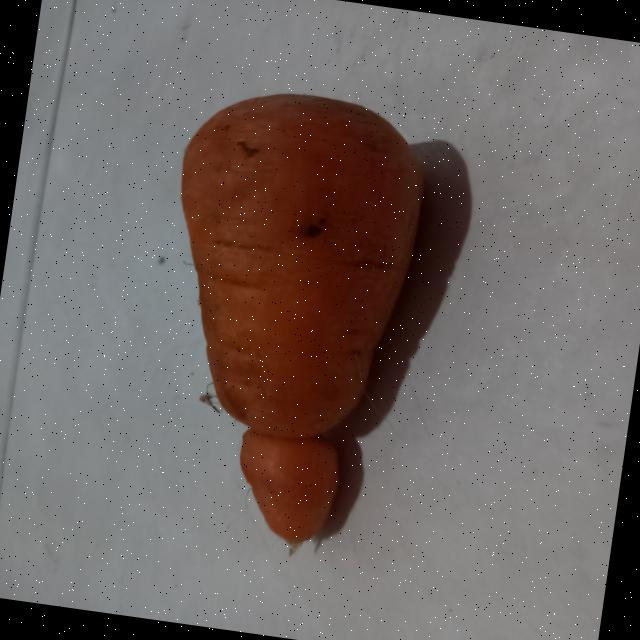carrot: (181, 93, 423, 544)
